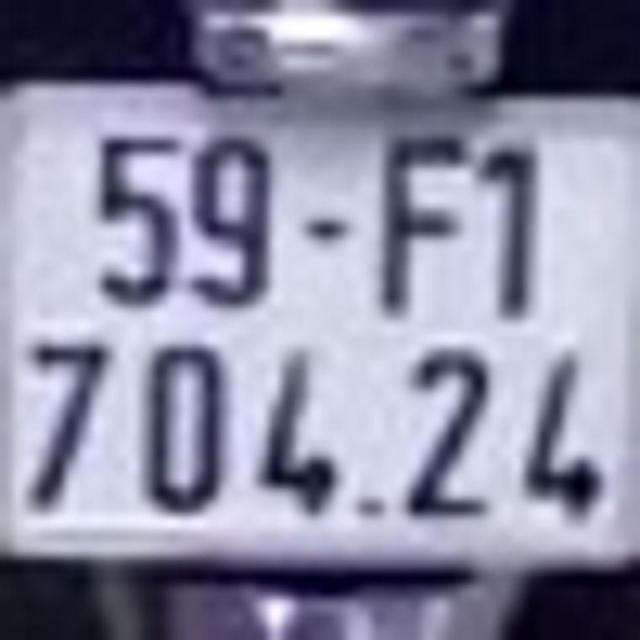0: (138, 339, 228, 512)
1: (484, 134, 534, 316)
2: (406, 340, 488, 516)
4: (522, 338, 602, 525), (268, 341, 334, 518)
5: (102, 134, 178, 306)
7: (30, 338, 112, 504)
9: (190, 130, 273, 308)
F: (380, 132, 468, 326)
